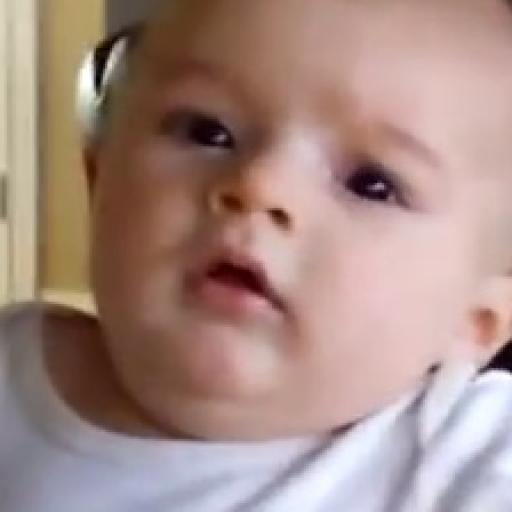Autism: (68, 6, 512, 459)
